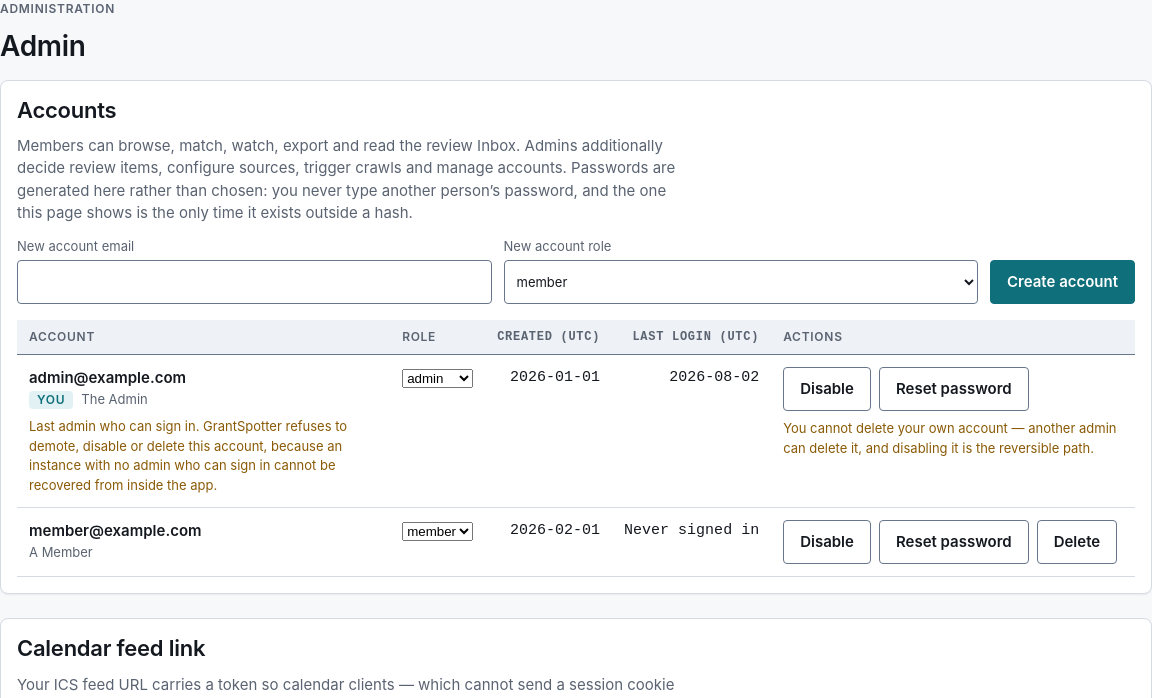
Scenario: Admin console — users › asks for an email instead of posting an empty one
Expected: the table named "user accounts" is shown, [17,320,1135,578]
Click the button "Create account". click: (1062, 282)
box: [990,260,1135,304]
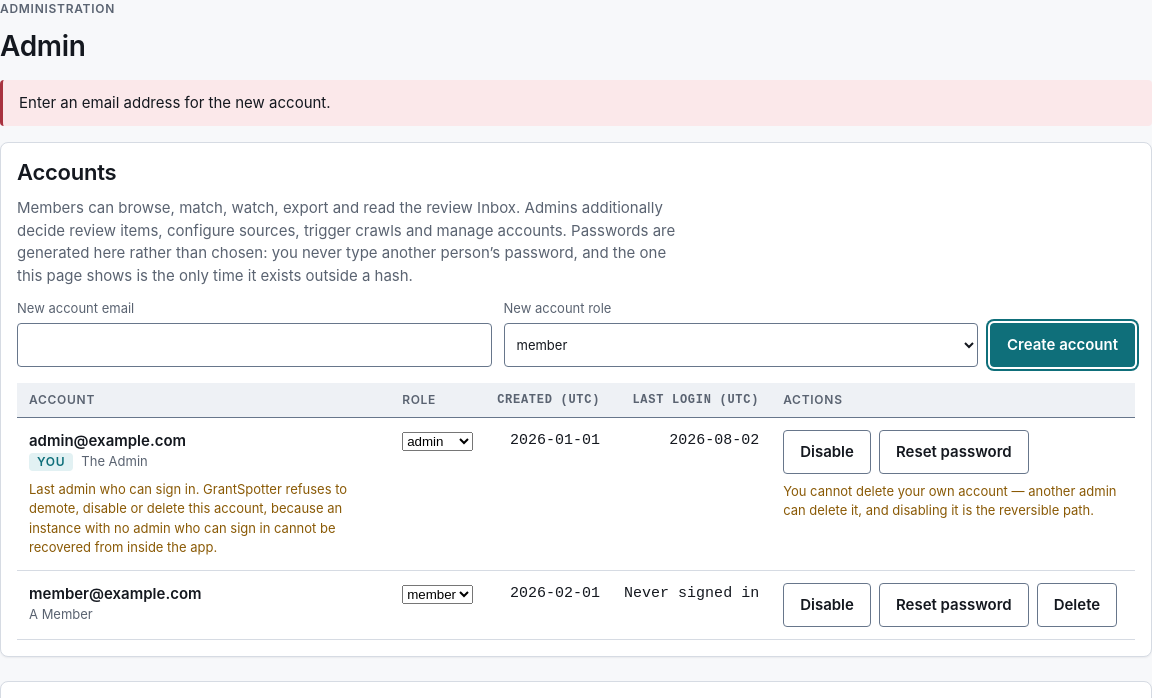
Expected: the message shows "email address", [19,93,331,112]
